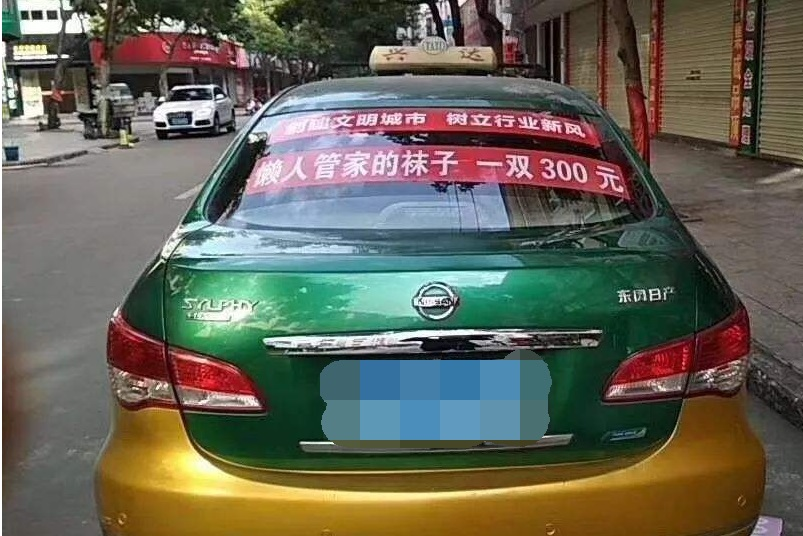taxi: (88, 36, 772, 536)
